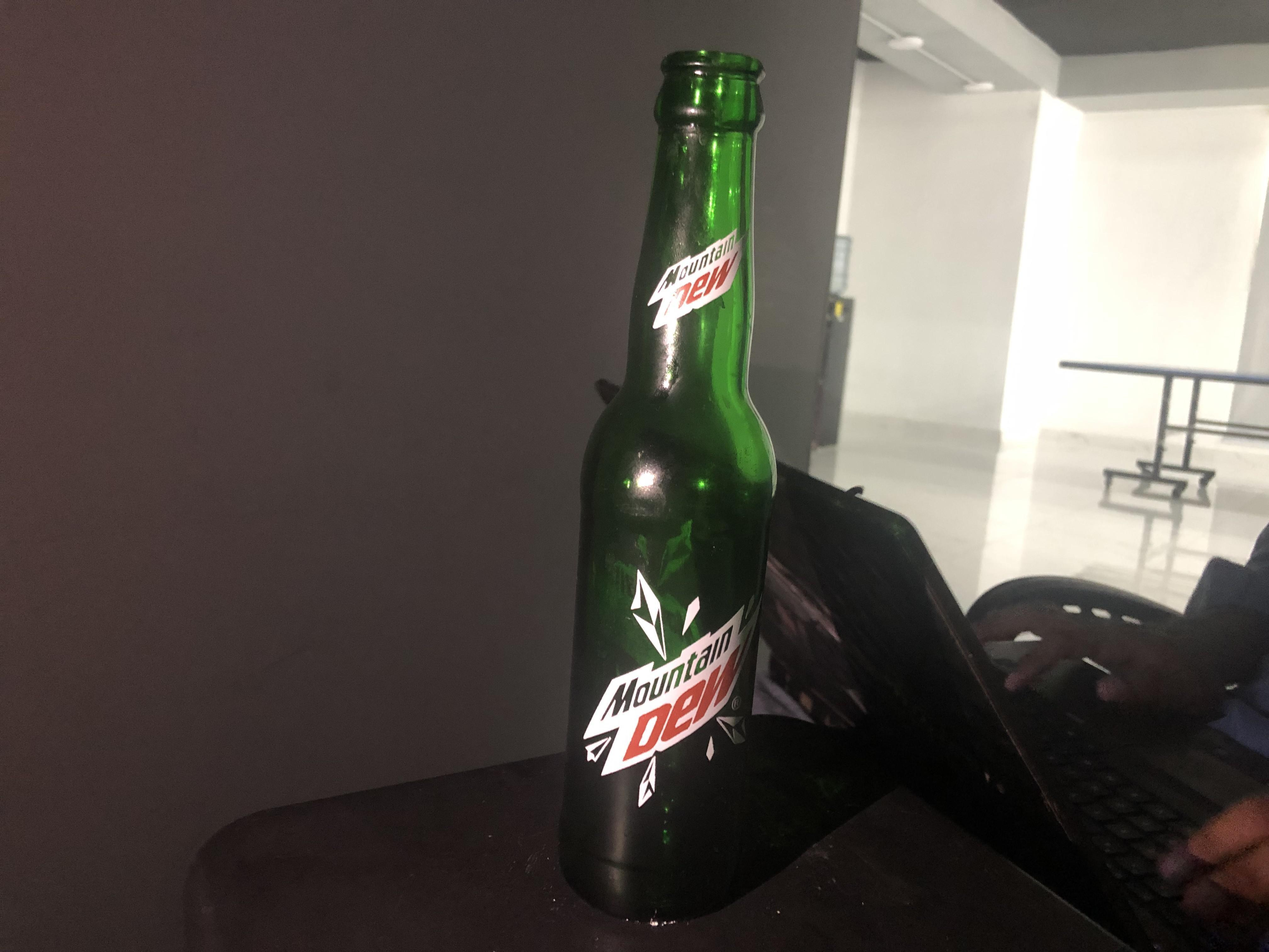bottle-glass: (555, 44, 779, 930)
